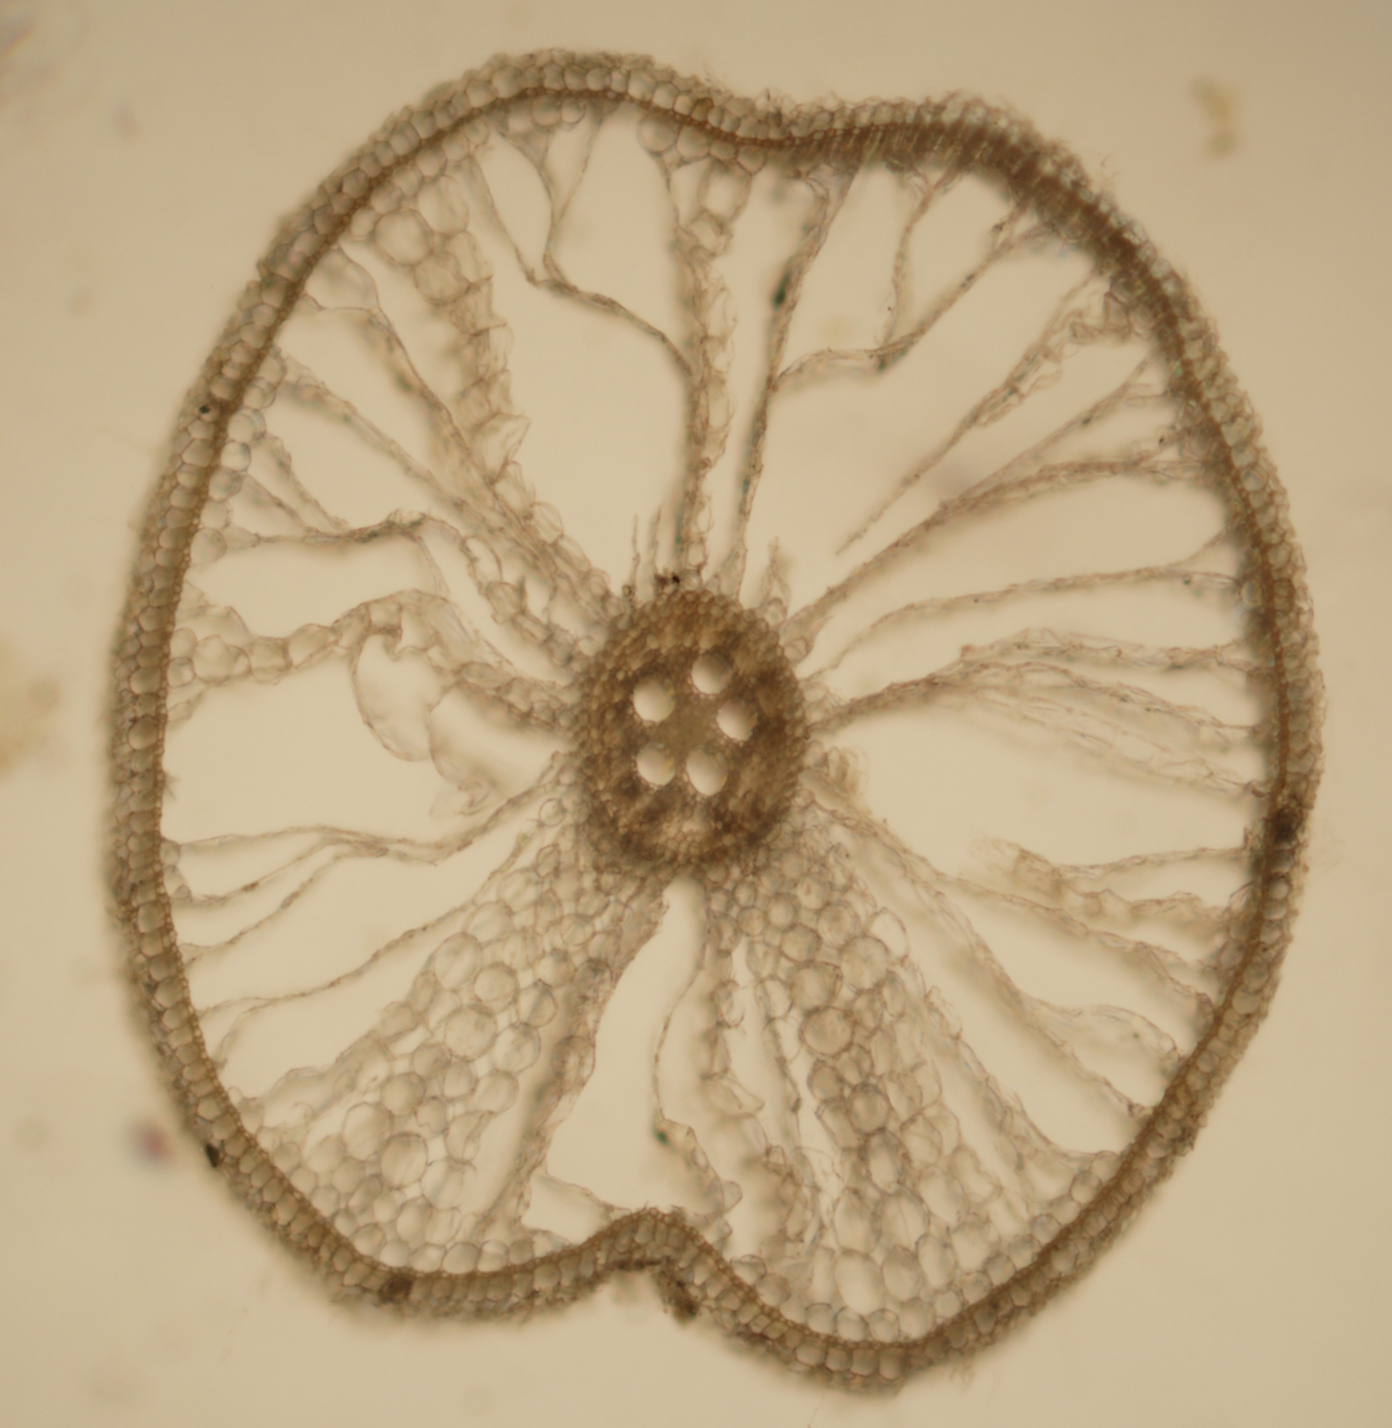lm: (685, 745, 729, 796), (632, 673, 676, 722), (716, 697, 758, 742), (691, 652, 733, 695), (636, 741, 676, 785)
